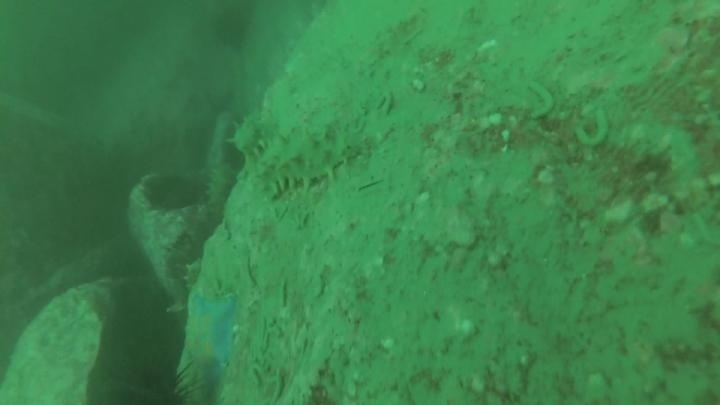echinus: (108, 358, 204, 405), (208, 4, 257, 52)
holothurian: (249, 122, 367, 197), (226, 107, 278, 162), (199, 161, 239, 227)
starfish: (177, 292, 242, 403)
